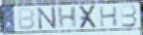B: (120, 4, 139, 28), (17, 7, 36, 31)
H: (57, 6, 79, 30), (98, 5, 119, 28)
N: (37, 6, 58, 31)
X: (78, 5, 98, 30)
